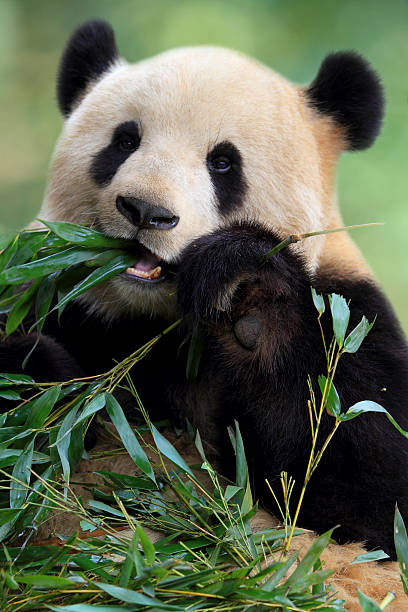panda: (31, 11, 390, 315)
